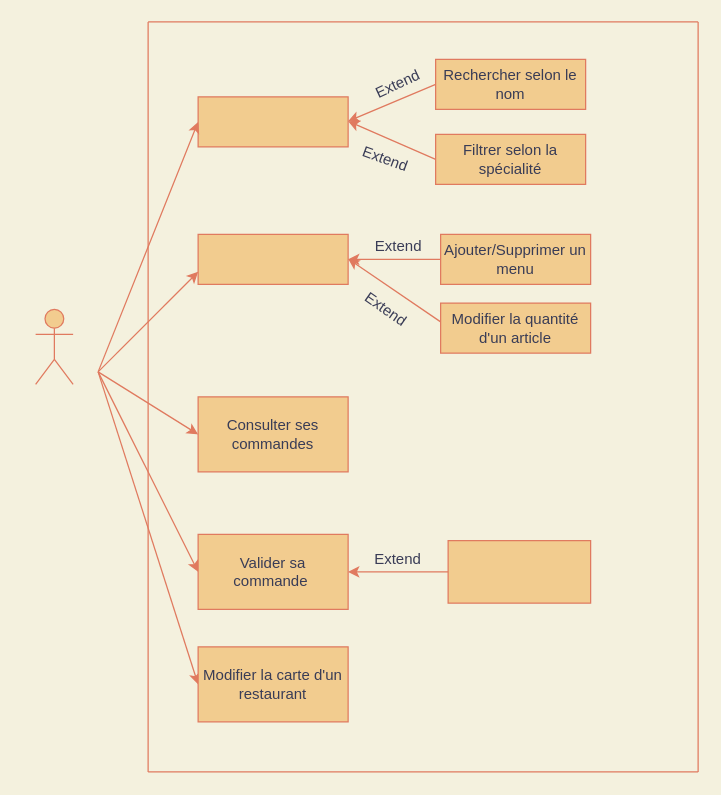
Image size: 721x795. Some labels were removed from this diagram. Here are the shapes that lost their labels. From the top down, the box of each, then its label:
(197, 96, 348, 147): Rechercher un restaurant selon la localisation
(197, 233, 348, 284): Gestion du panier
(34, 308, 73, 384): Utilisateur
(447, 539, 591, 603): Laisser un avis
